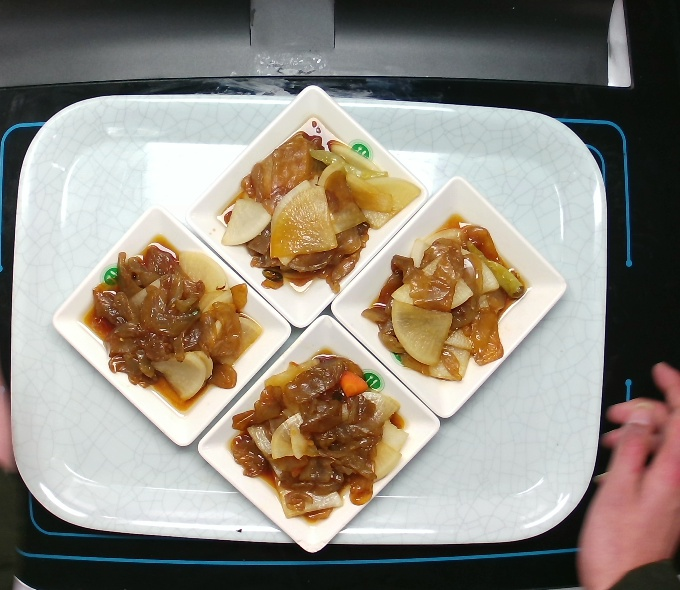wcq-HaiZheTou: (215, 119, 424, 298), (226, 346, 411, 525), (86, 232, 266, 411), (356, 221, 531, 387)
